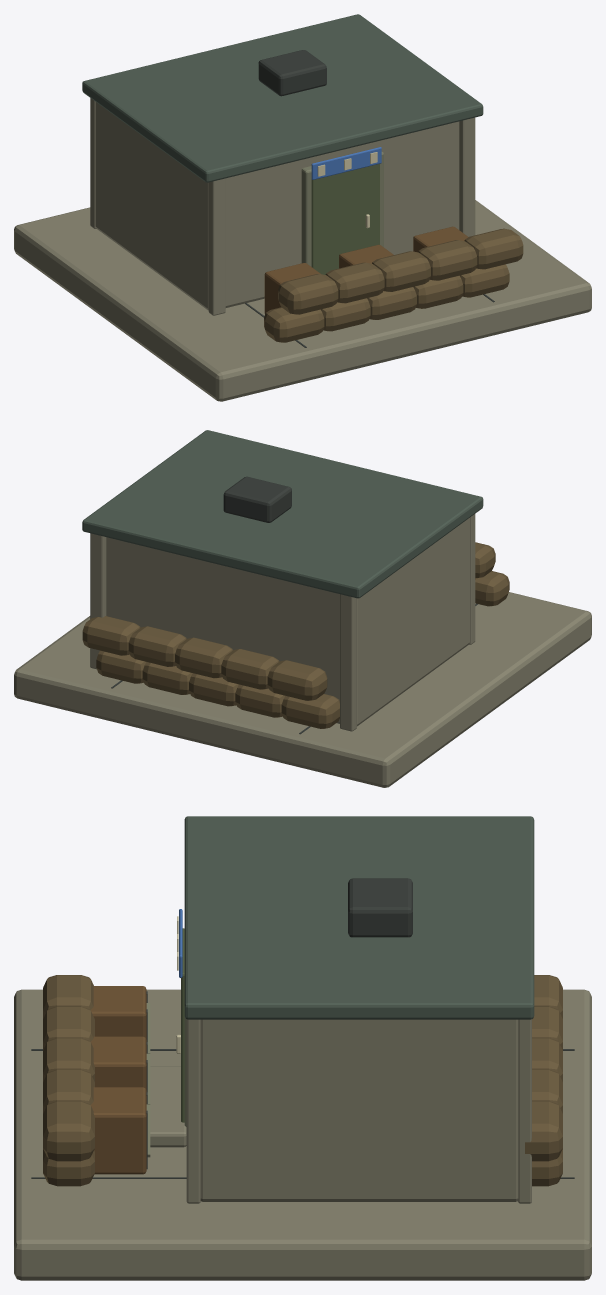
File: munitionscache.glb
The picture shows the model from 3 angles, top to bottom: view 1: azimuth 30°, elevation 25°; view 2: azimuth 150°, elevation 25°; view 3: azimuth 270°, elevation 25°; orthographic projection. The views are drawn at different scales.
Visible parts, largest first — view 1: Concrete, RoofMetal, Canvas, Armor, Timber, Steel, EdgeSteel, TeamColor; view 2: Concrete, RoofMetal, Canvas, Steel; view 3: Concrete, RoofMetal, Canvas, Timber, Steel, EdgeSteel, Armor.
Boxes of the visible parts, bbox=[...] form: Concrete: bbox=[14, 98, 591, 401]; RoofMetal: bbox=[82, 14, 483, 182]; Canvas: bbox=[264, 228, 523, 342]; Armor: bbox=[311, 164, 379, 274]; Timber: bbox=[264, 226, 468, 313]; Steel: bbox=[245, 50, 494, 347]; EdgeSteel: bbox=[301, 151, 383, 266]; TeamColor: bbox=[311, 147, 381, 179]; Concrete: bbox=[14, 514, 591, 787]; RoofMetal: bbox=[82, 430, 483, 598]; Canvas: bbox=[82, 542, 509, 728]; Steel: bbox=[111, 476, 477, 734]; Concrete: bbox=[14, 989, 591, 1280]; RoofMetal: bbox=[184, 816, 534, 1019]; Canvas: bbox=[43, 975, 562, 1186]; Timber: bbox=[90, 986, 146, 1174]; Steel: bbox=[31, 878, 574, 1178]; EdgeSteel: bbox=[146, 1003, 186, 1157]; Armor: bbox=[181, 928, 184, 1122].
Size of the model in its own units: 4.3 by 2.15 by 4.1.
